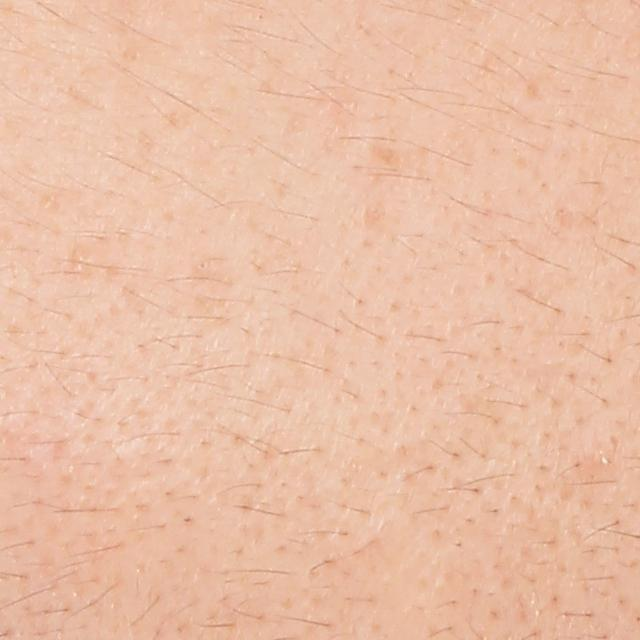comedo: (197, 259, 210, 273)
